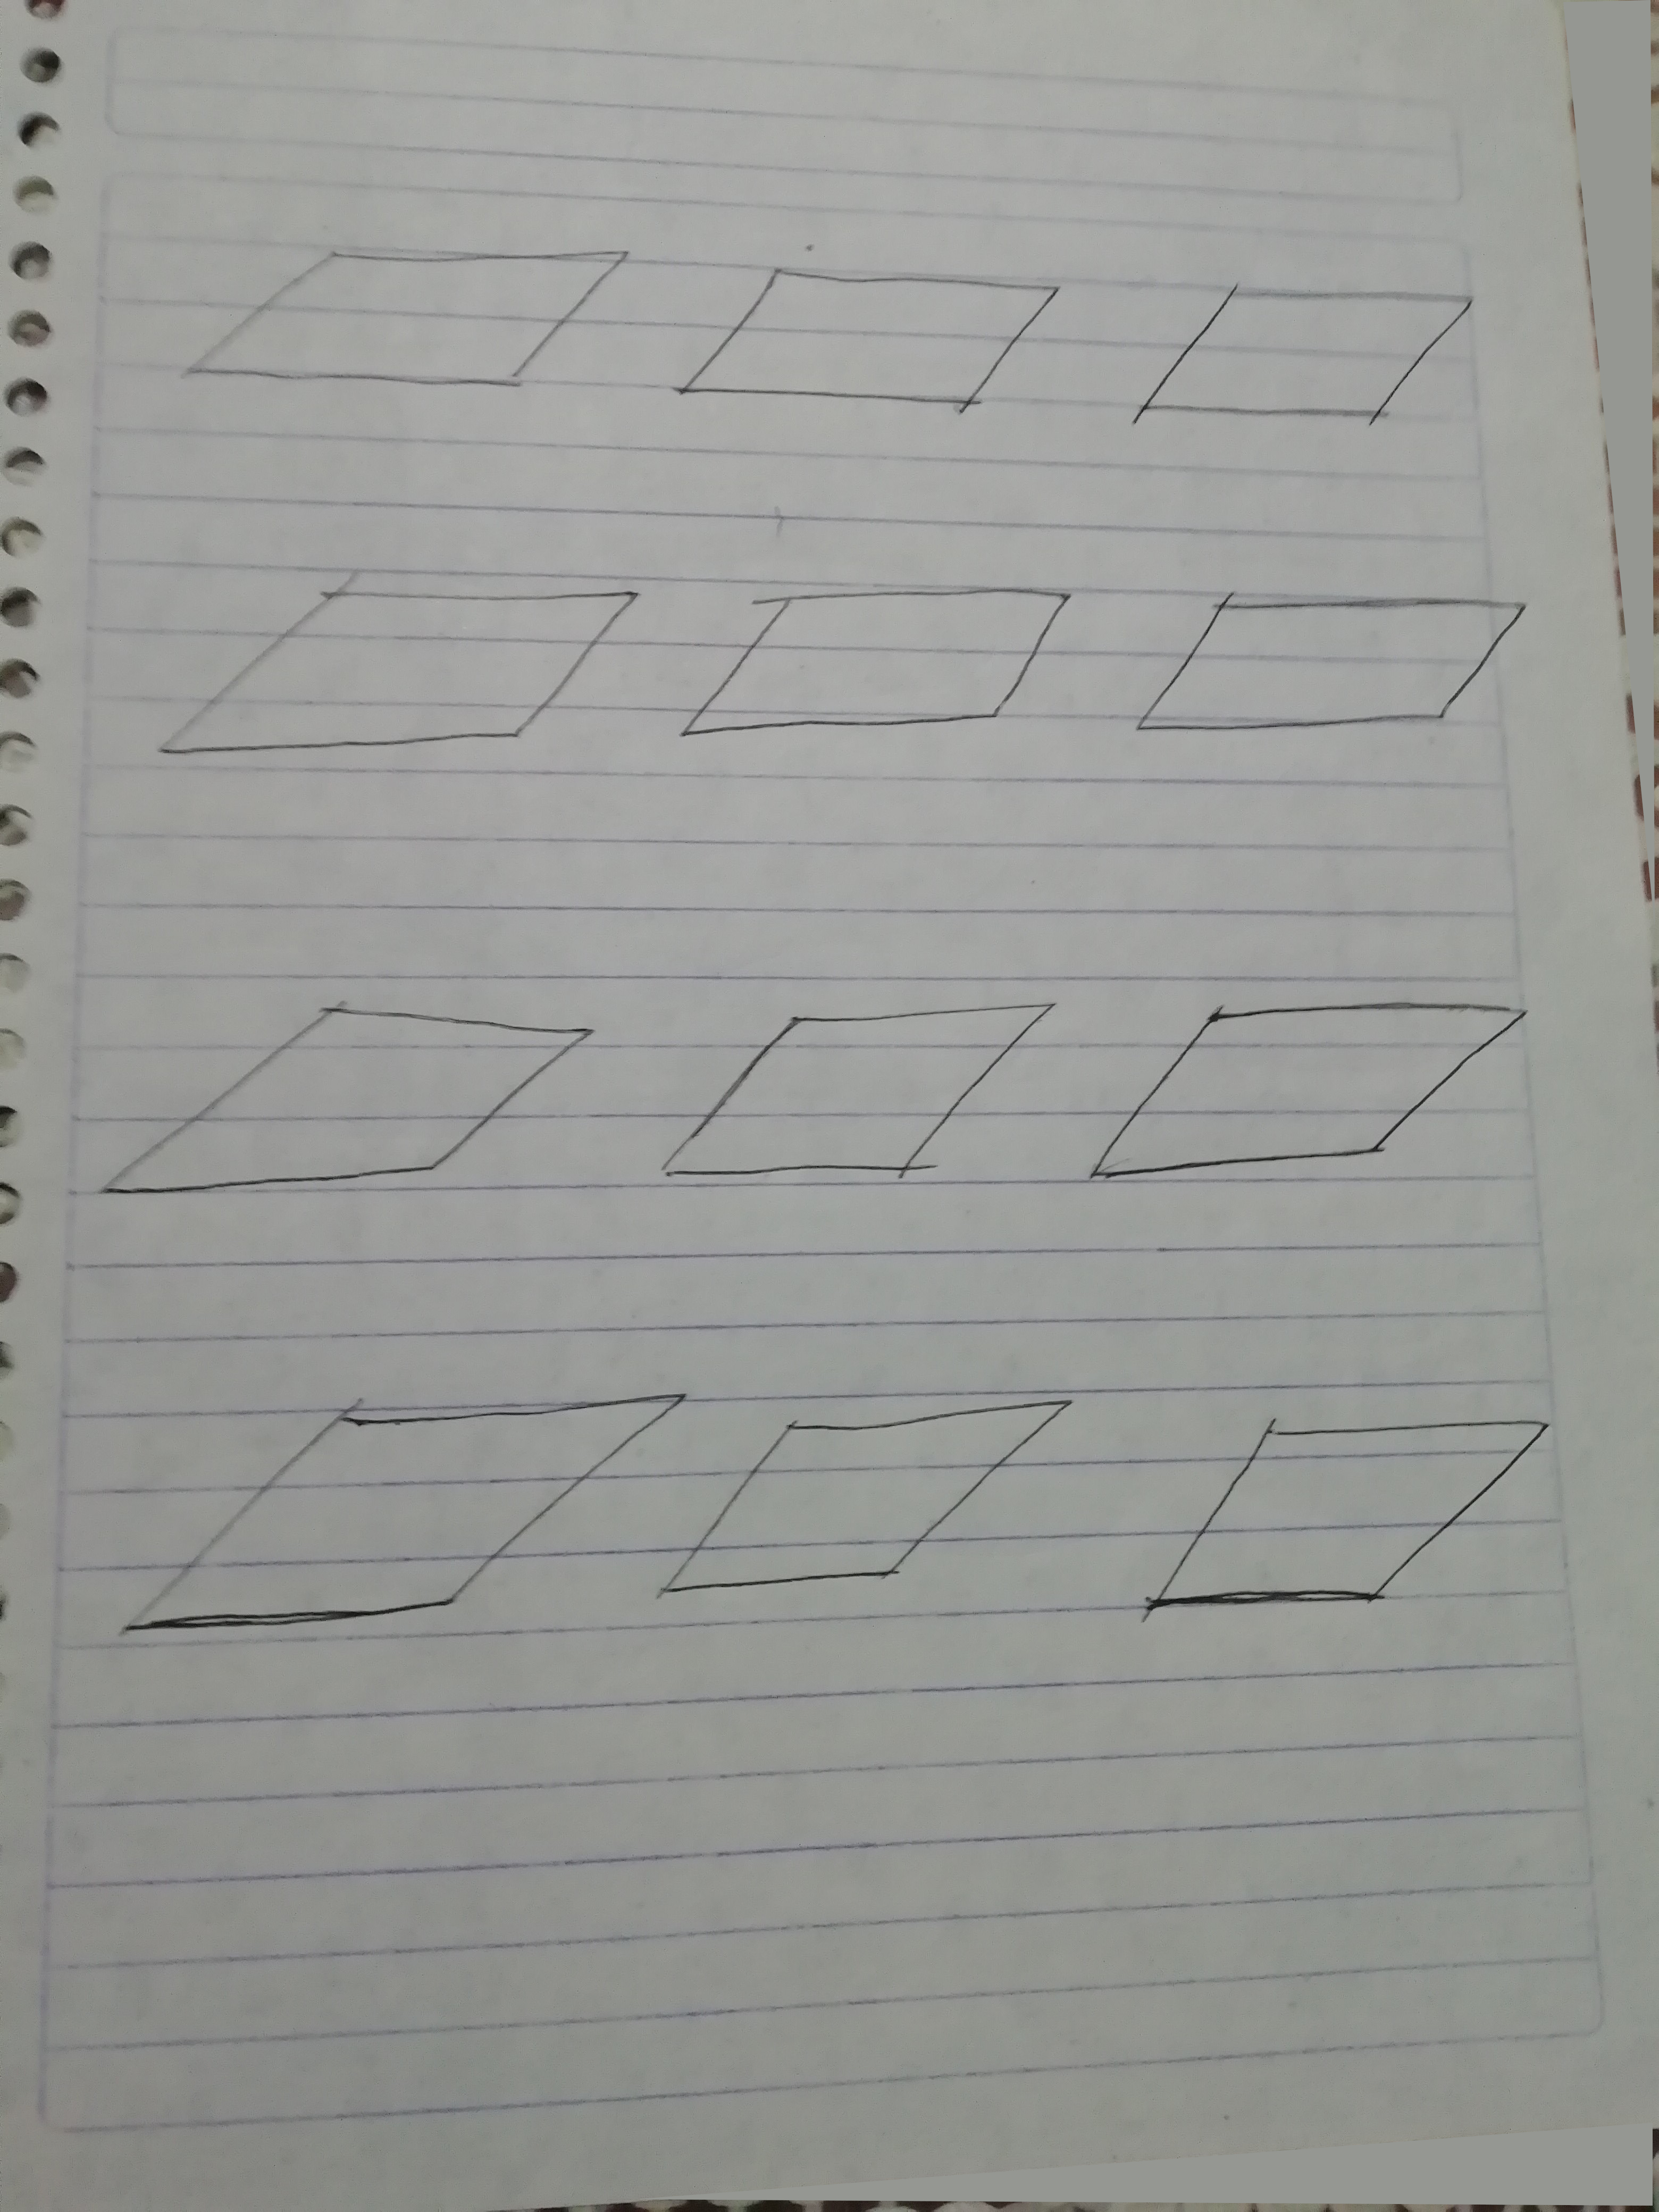scan: (66, 953, 619, 1266), (1112, 1369, 1601, 1665), (136, 542, 657, 784), (125, 195, 629, 442), (1079, 975, 1561, 1230), (640, 968, 1072, 1233), (1112, 237, 1516, 482), (667, 554, 1096, 780), (667, 226, 1082, 442), (1122, 556, 1537, 768)
